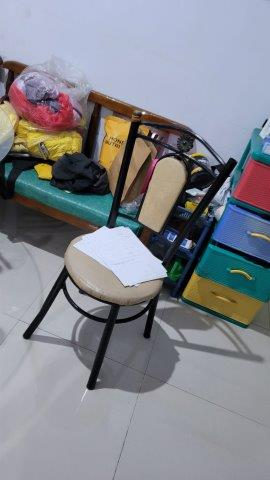kertas: (70, 225, 168, 289)
